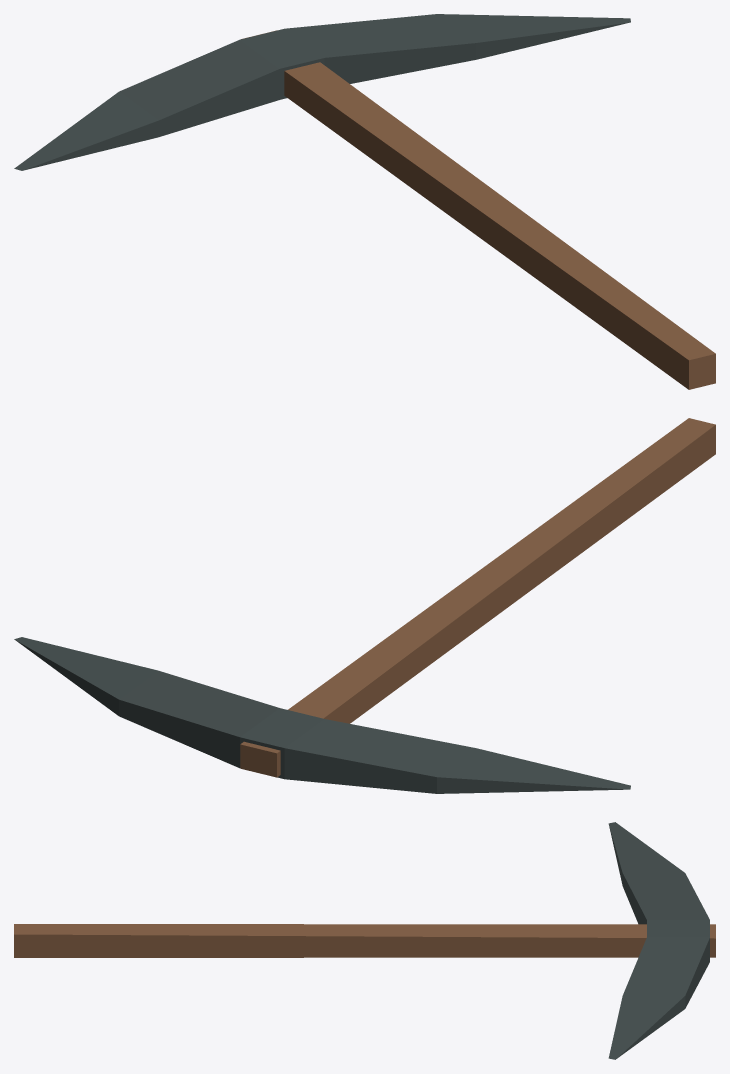
Rendered from Pickaxe_1_Light_Brown.fbx.
3 views of the same model, one above another, from view 1: azimuth 30°, elevation 25°; view 2: azimuth 150°, elevation 25°; view 3: azimuth 270°, elevation 25° (orthographic). The views are drawn at different scales.
Parts seen in each view (by area): view 1: Pickaxe_1_Light_Brown; view 2: Pickaxe_1_Light_Brown; view 3: Pickaxe_1_Light_Brown.
Part boxes in pixels (bbox=[...]): Pickaxe_1_Light_Brown: bbox=[14, 14, 715, 389]; Pickaxe_1_Light_Brown: bbox=[14, 418, 715, 793]; Pickaxe_1_Light_Brown: bbox=[14, 822, 715, 1059].
Bounding box in the file's own units: 76.91 × 3.71 × 95.91.
